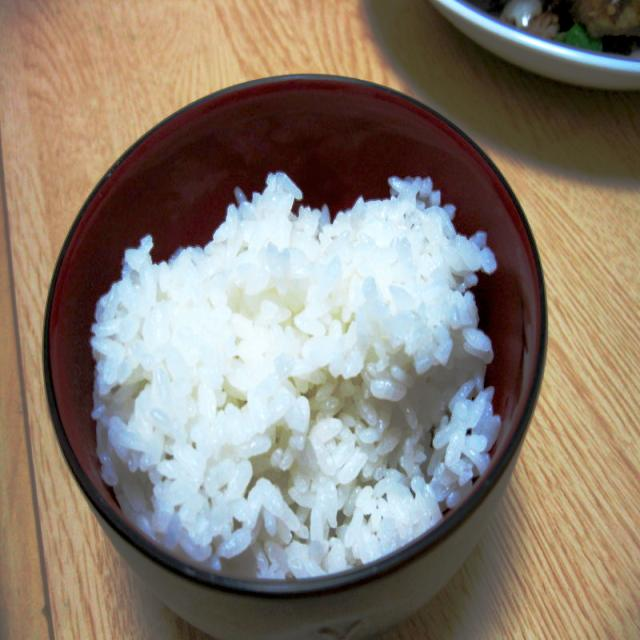rice: (90, 171, 502, 584)
